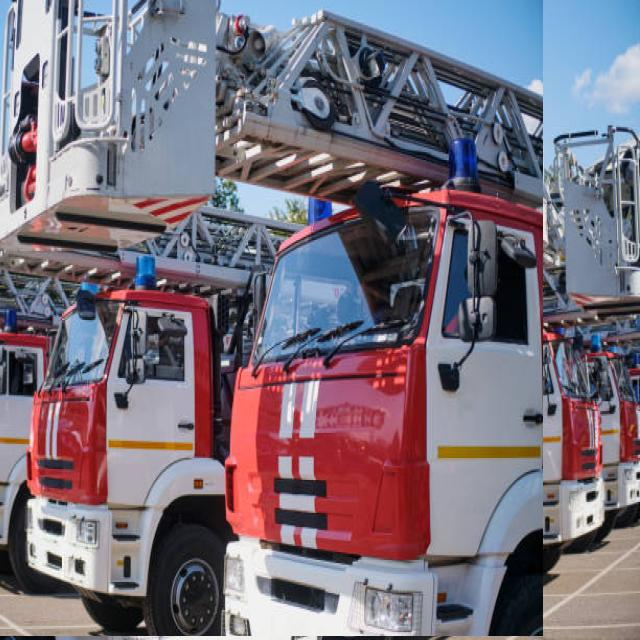emergency: (0, 0, 543, 636), (246, 208, 515, 639), (466, 128, 640, 592)
